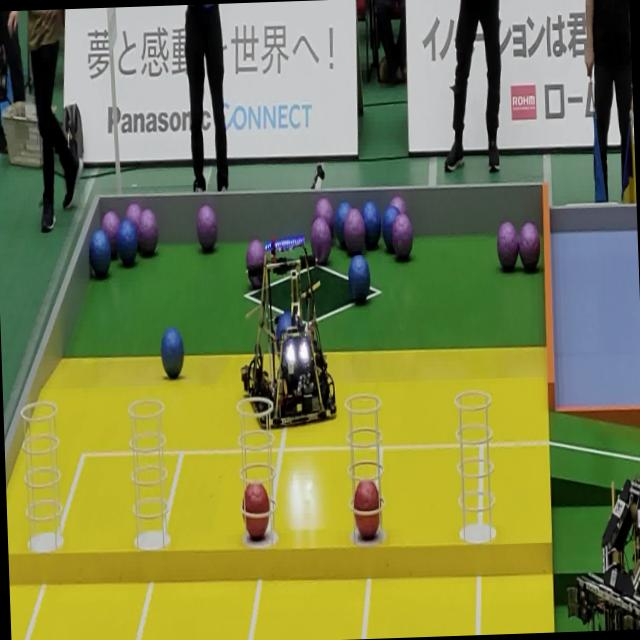blue_ball: (346, 254, 371, 306), (160, 325, 184, 378), (88, 230, 111, 276), (118, 221, 138, 269), (363, 201, 382, 251), (382, 204, 392, 254), (334, 200, 345, 244)
purple_ball: (496, 218, 520, 275), (244, 233, 266, 292), (518, 221, 542, 273), (310, 216, 332, 266), (195, 208, 218, 254), (137, 207, 159, 254), (391, 219, 414, 260), (344, 215, 366, 253), (314, 197, 333, 235), (108, 209, 120, 256), (125, 202, 142, 220), (392, 194, 407, 209)
red_ball: (352, 478, 382, 540), (242, 479, 270, 539)
